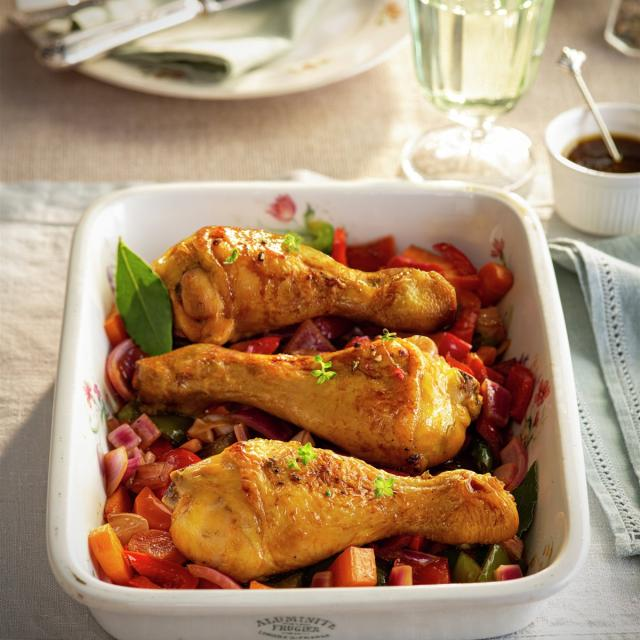pollo: (156, 433, 528, 579), (126, 326, 484, 467), (150, 228, 462, 342)
